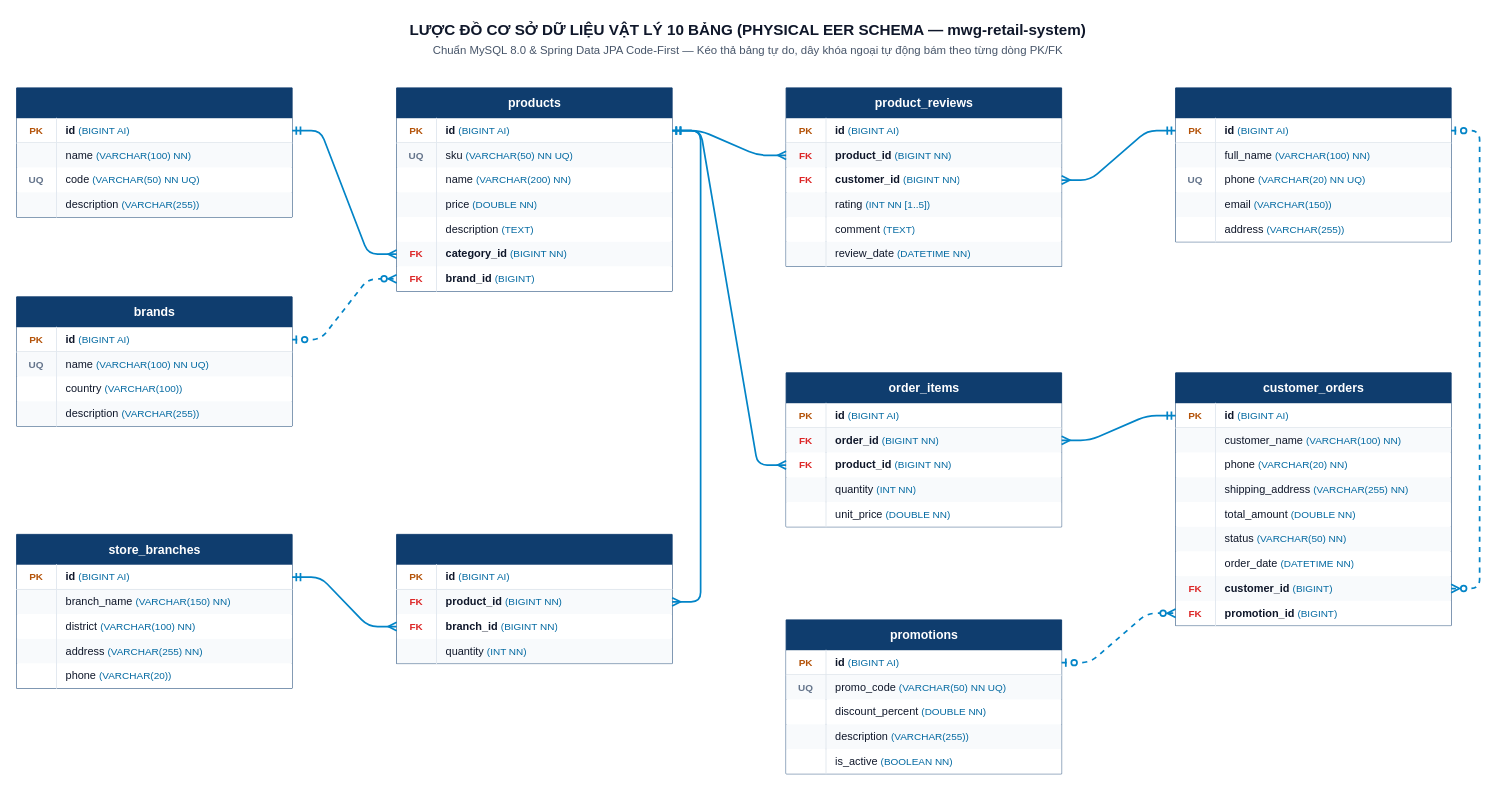
The diagram is 1506 pixels wide and 790 high, and some of its shapes have lost their labels. The shapes that lost their labels are listed below. From the top down, each one's box as (x1, y1, x2, y2) in pixels, then its label:
(16, 87, 292, 217): categories
(1175, 87, 1451, 242): customers
(396, 533, 672, 664): inventories [UQ(product_id, branch_id)]
